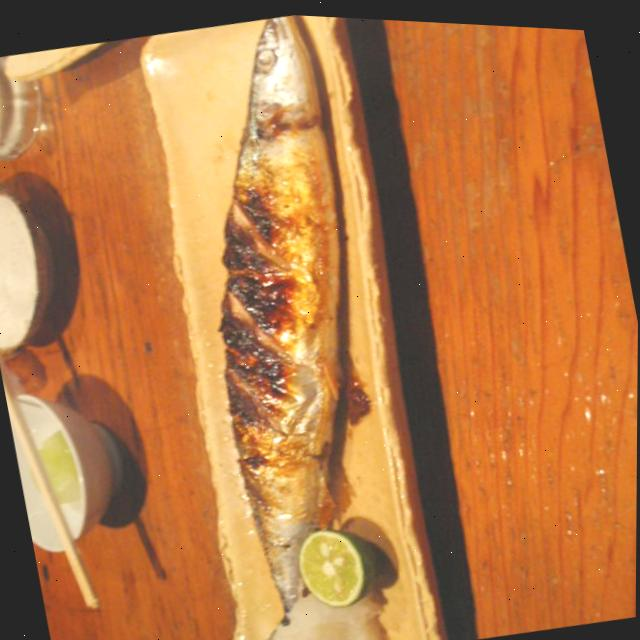熟制海鲜: (119, 5, 449, 640)
